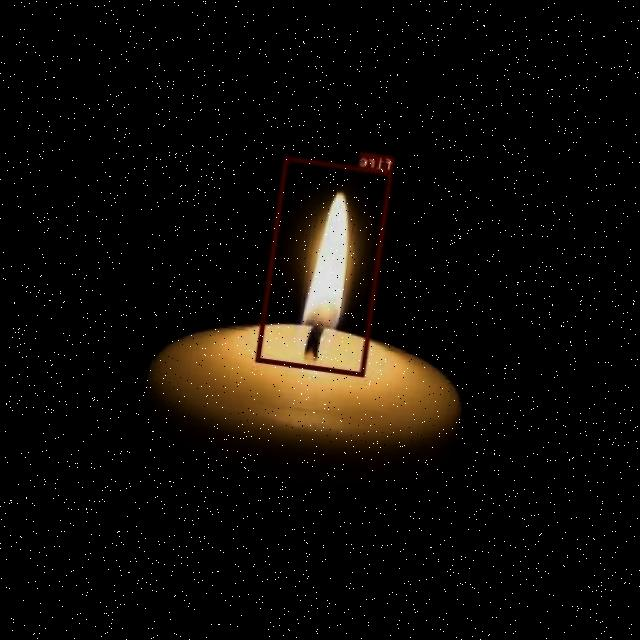fire: (256, 156, 394, 377)
